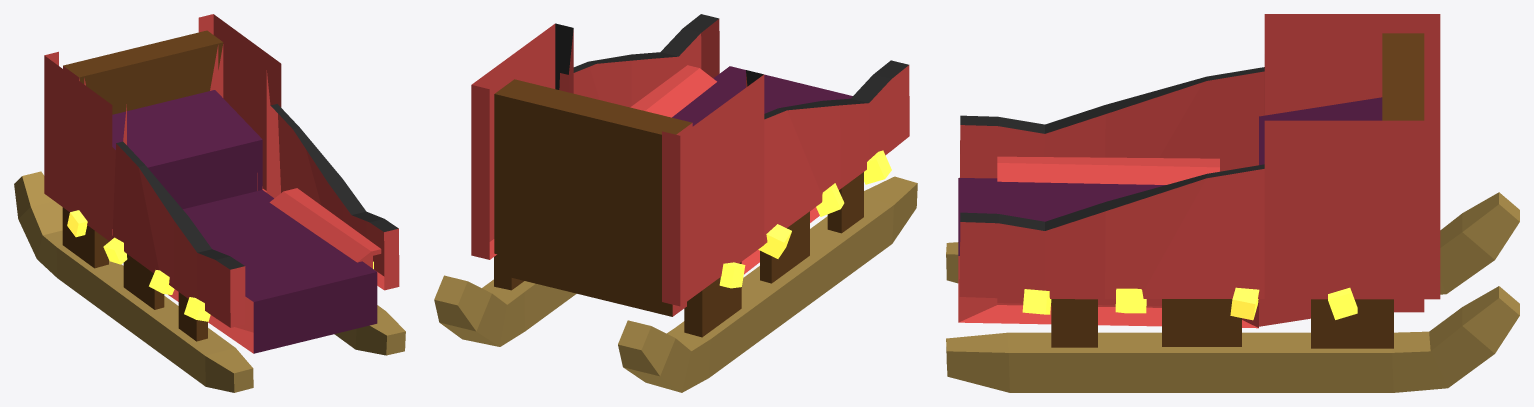
Rendered from sleigh.glb.
The picture shows the model from 3 angles, left to right: view 1: azimuth 30°, elevation 25°; view 2: azimuth 150°, elevation 25°; view 3: azimuth 270°, elevation 25°; orthographic projection. The views are drawn at different scales.
Parts seen in each view (by area): view 1: Sleigh_Material.012_0, Sleigh_Material.066_0, Sleigh_Material.065_0, Sleigh_Material.064_0, Sleigh_Material.081_0, Sleigh_Material.082_0; view 2: Sleigh_Material.012_0, Sleigh_Material.064_0, Sleigh_Material.065_0, Sleigh_Material.081_0, Sleigh_Material.066_0, Sleigh_Material.082_0; view 3: Sleigh_Material.012_0, Sleigh_Material.065_0, Sleigh_Material.064_0, Sleigh_Material.066_0, Sleigh_Material.081_0, Sleigh_Material.082_0.
Boxes of the visible parts, box(x1,y1,x2,y2) form: Sleigh_Material.012_0: box(44, 14, 399, 353); Sleigh_Material.066_0: box(112, 90, 377, 353); Sleigh_Material.065_0: box(14, 171, 405, 392); Sleigh_Material.064_0: box(62, 30, 223, 341); Sleigh_Material.081_0: box(116, 104, 398, 269); Sleigh_Material.082_0: box(67, 210, 373, 321); Sleigh_Material.012_0: box(471, 19, 909, 316); Sleigh_Material.064_0: box(494, 79, 863, 337); Sleigh_Material.065_0: box(434, 176, 917, 392); Sleigh_Material.081_0: box(555, 14, 908, 119); Sleigh_Material.066_0: box(672, 66, 852, 126); Sleigh_Material.082_0: box(719, 150, 891, 288); Sleigh_Material.012_0: box(958, 14, 1440, 328); Sleigh_Material.065_0: box(946, 192, 1519, 392); Sleigh_Material.064_0: box(1051, 33, 1424, 348); Sleigh_Material.066_0: box(958, 97, 1382, 255); Sleigh_Material.081_0: box(960, 67, 1264, 230); Sleigh_Material.082_0: box(1022, 287, 1357, 320).
Bounding box in the file's own units: 3.32 × 3.38 × 6.54.
